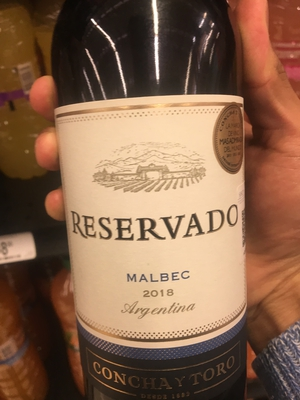reservado malbec: (47, 5, 259, 399)
